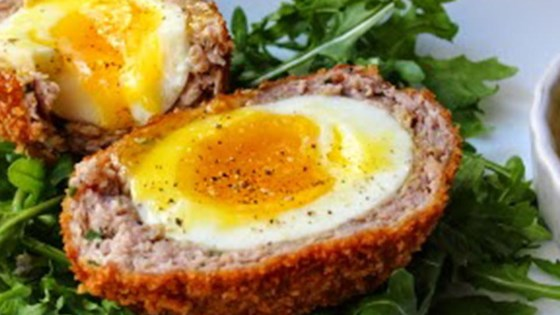fried egg: (131, 127, 402, 228), (10, 6, 185, 102)
slice of bread: (48, 86, 479, 294), (1, 1, 230, 138)
